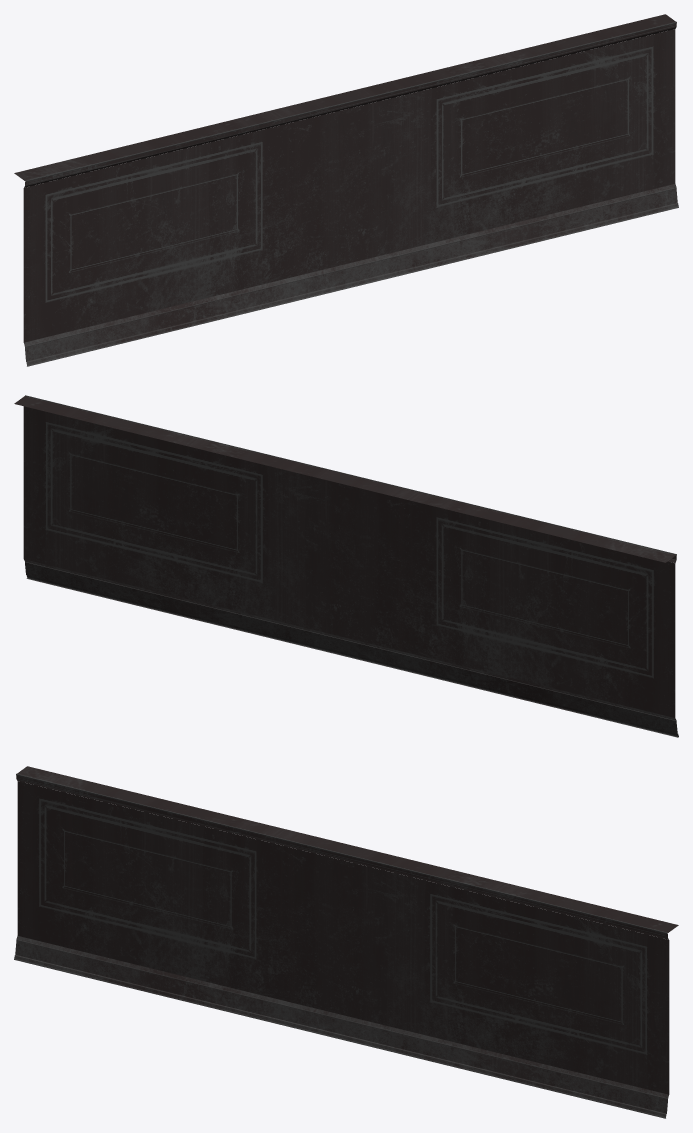
Rendered from sm_paneling_short.FBX.
The picture shows the model from 3 angles, top to bottom: view 1: azimuth 30°, elevation 25°; view 2: azimuth 150°, elevation 25°; view 3: azimuth 330°, elevation 25°; orthographic projection.
Visible parts, largest first — view 1: paneling_uvs; view 2: paneling_uvs; view 3: paneling_uvs.
Part boxes in pixels (x1,y1,x2,y2): paneling_uvs: (14, 14, 678, 366); paneling_uvs: (14, 395, 678, 737); paneling_uvs: (14, 766, 678, 1118).
Size of the model in its own units: 1000 by 270 by 35.3.
1 material, 1 textured.
